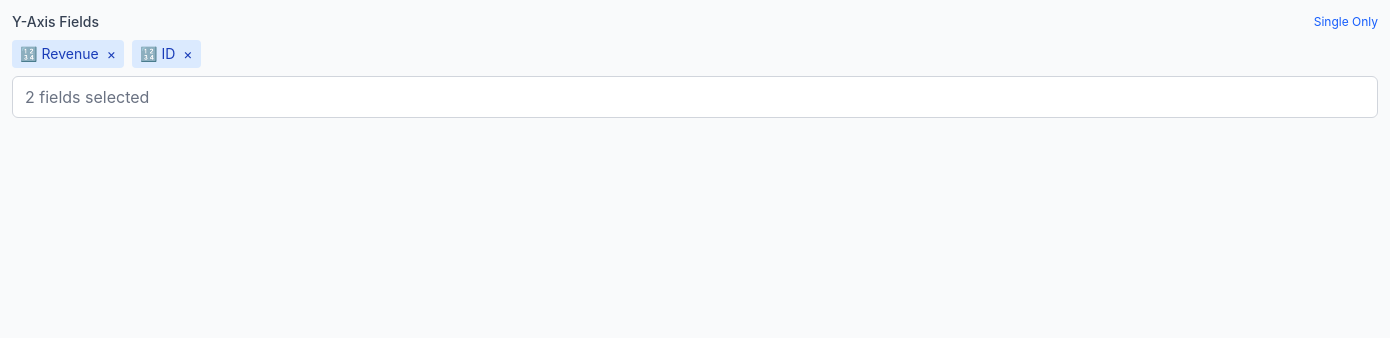
Scenario: FieldMultiSelect › Dropdown Interaction › shows checked state for selected fields
Click the button with aria-label "Y-Axis Fields" at (53, 97), box [12,76,1378,118]
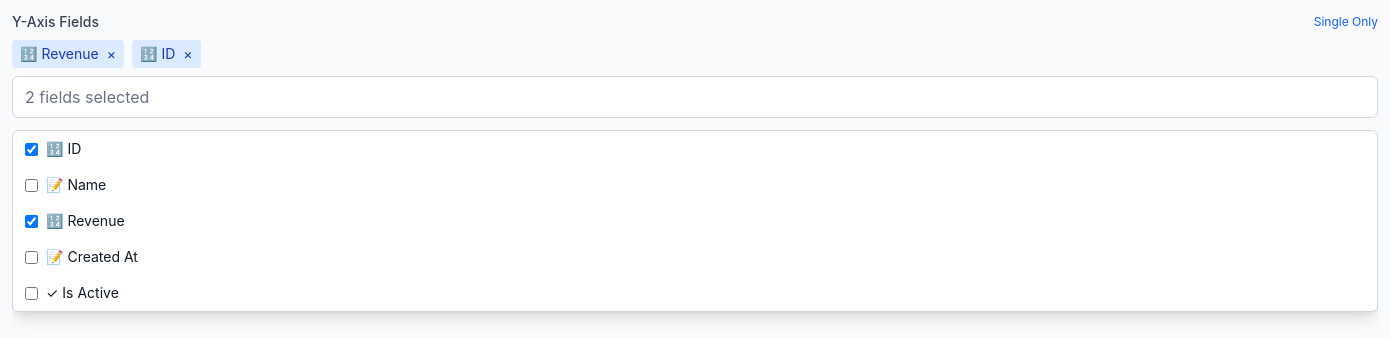
Check: the checkbox labelled "🔢 Revenue" is checked, box [25,214,38,228]
Check: the checkbox labelled "🔢 ID" is checked, box [25,142,38,156]
Check: the checkbox labelled "Name" is not checked, box [25,178,38,192]
